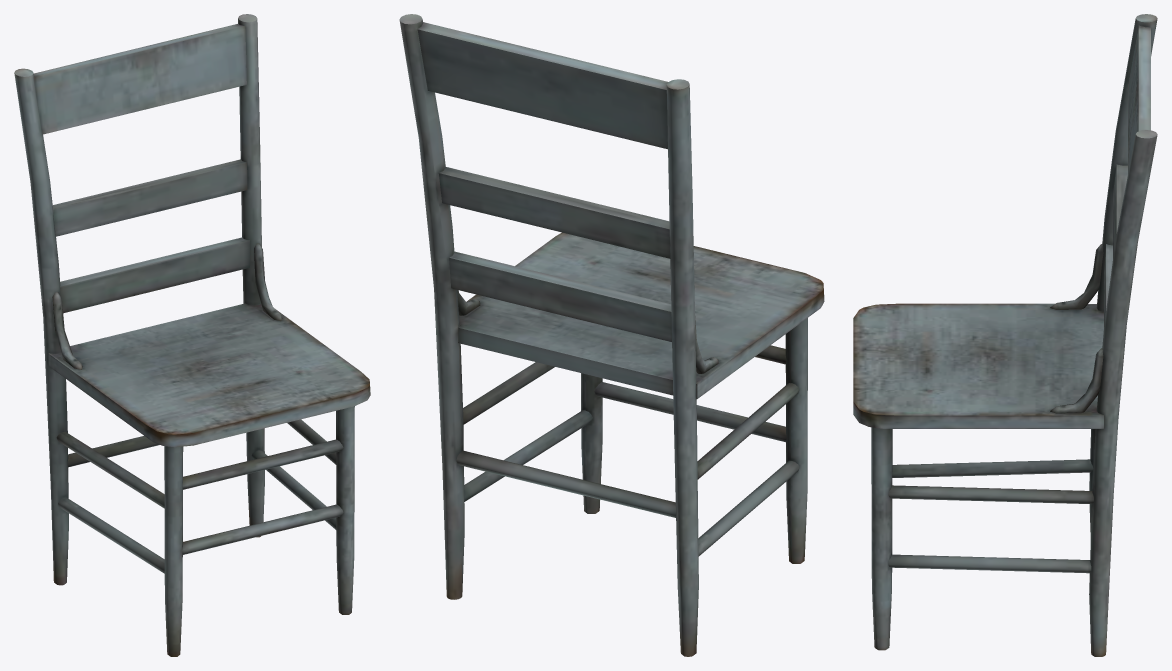
Rendered from painted_wooden_chair_02.glb.
The picture shows the model from 3 angles, left to right: view 1: azimuth 30°, elevation 25°; view 2: azimuth 150°, elevation 25°; view 3: azimuth 270°, elevation 25°; orthographic projection. The views are drawn at different scales.
Parts seen in each view (by area): view 1: painted_wooden_chair_02; view 2: painted_wooden_chair_02; view 3: painted_wooden_chair_02.
Boxes of the visible parts, x1=… form: painted_wooden_chair_02: x1=14, y1=14, x2=370, y2=656; painted_wooden_chair_02: x1=399, y1=14, x2=824, y2=656; painted_wooden_chair_02: x1=853, y1=14, x2=1157, y2=656.
Size of the model in its own units: 0.6394 by 1.26 by 0.6605.
Materials: 1 (1 with a texture image).
